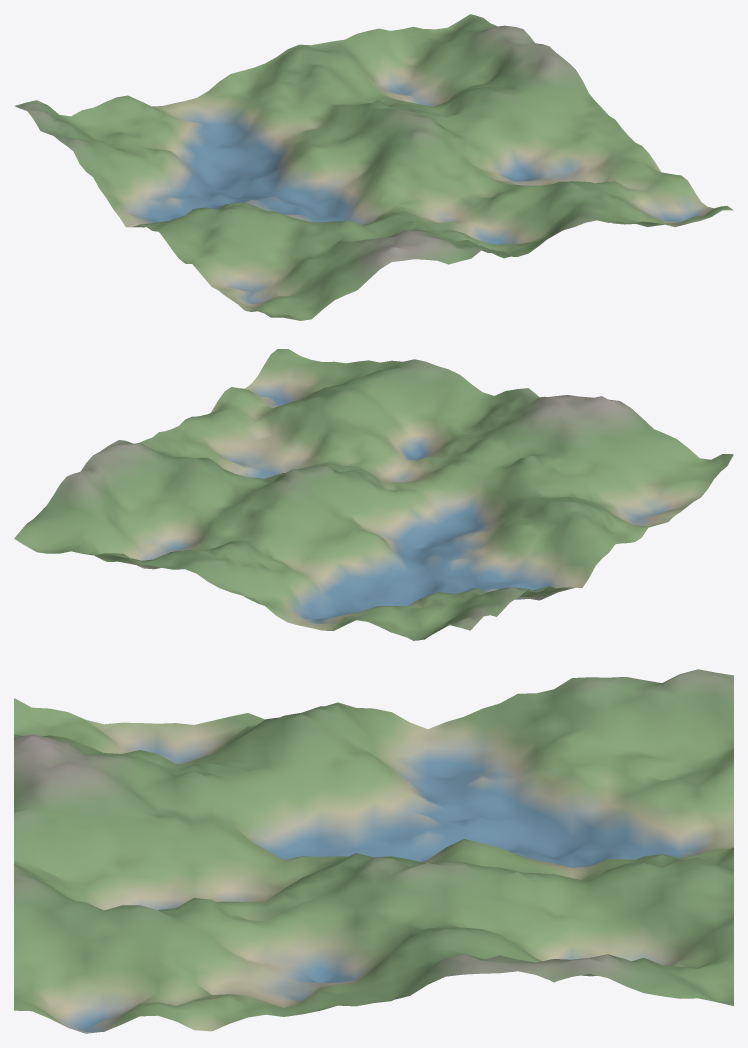
The model's file is example.gltf.
3 views of the same model, one above another, from view 1: azimuth 30°, elevation 25°; view 2: azimuth 150°, elevation 25°; view 3: azimuth 270°, elevation 25° (orthographic). The views are drawn at different scales.
Parts seen in each view (by area): view 1: terrain; view 2: terrain; view 3: terrain.
Boxes of the visible parts, x1,y1,x2,y2 form: terrain: [14, 14, 733, 320]; terrain: [14, 349, 733, 640]; terrain: [14, 669, 733, 1033].
Bounding box in the file's own units: 40 × 6.82 × 40.
